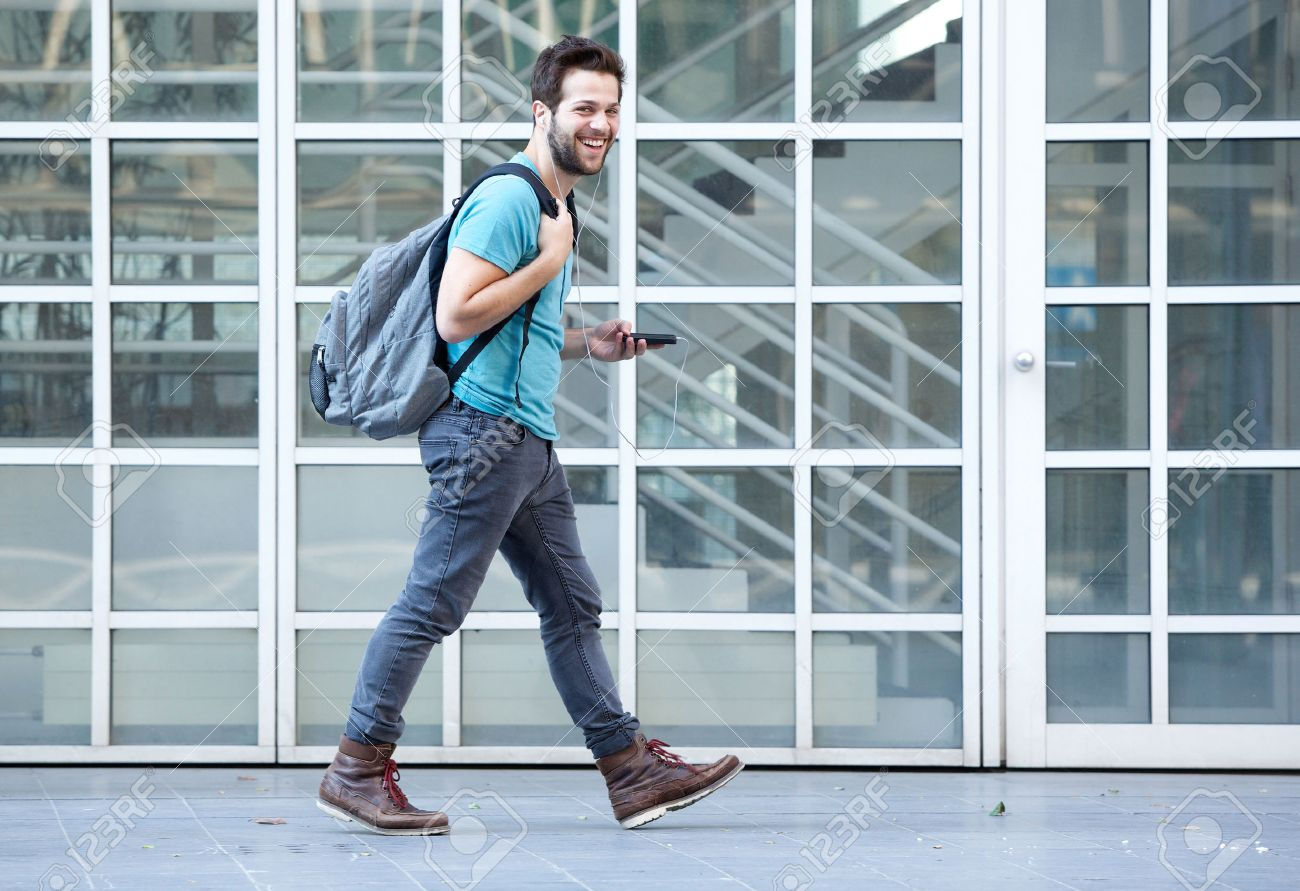person: (294, 29, 747, 832)
